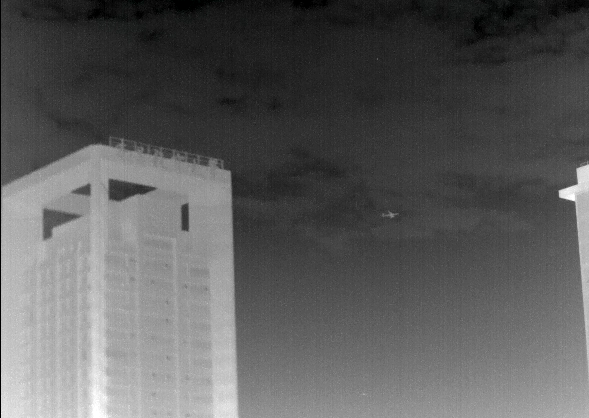dim target: (381, 210, 399, 219), (360, 392, 368, 397)
